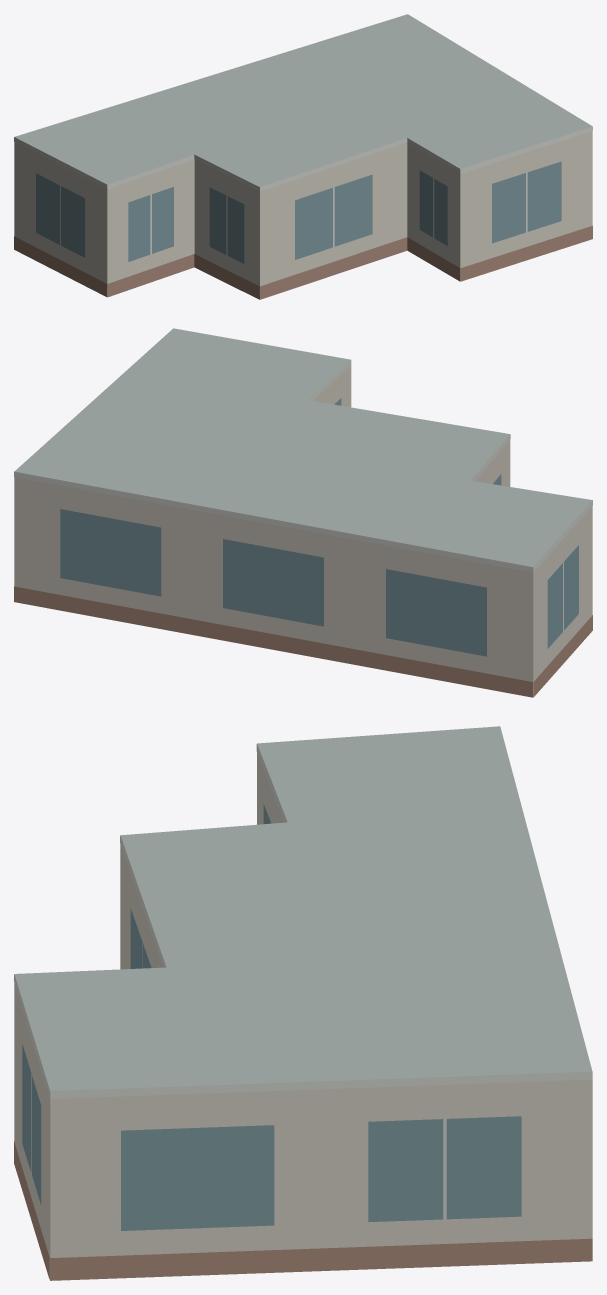
File: survey-upis-33000949.glb
3 renders of one model, top to bottom at view 1: azimuth 30°, elevation 25°; view 2: azimuth 150°, elevation 25°; view 3: azimuth 270°, elevation 25°, orthographic. The views are drawn at different scales.
Visible parts, largest first — view 1: survey-upis-33000949.tmp; view 2: survey-upis-33000949.tmp; view 3: survey-upis-33000949.tmp.
Part boxes in pixels (bbox=[...]): survey-upis-33000949.tmp: bbox=[14, 14, 592, 299]; survey-upis-33000949.tmp: bbox=[14, 328, 592, 697]; survey-upis-33000949.tmp: bbox=[14, 726, 592, 1280].
Bounding box in the file's own units: 12.62 × 3.05 × 8.45.
